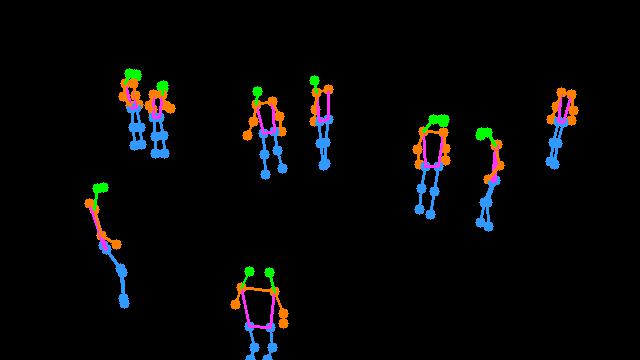normal: (227, 249, 297, 360), (405, 106, 459, 234), (245, 61, 290, 185), (535, 67, 581, 172), (305, 66, 339, 176)
